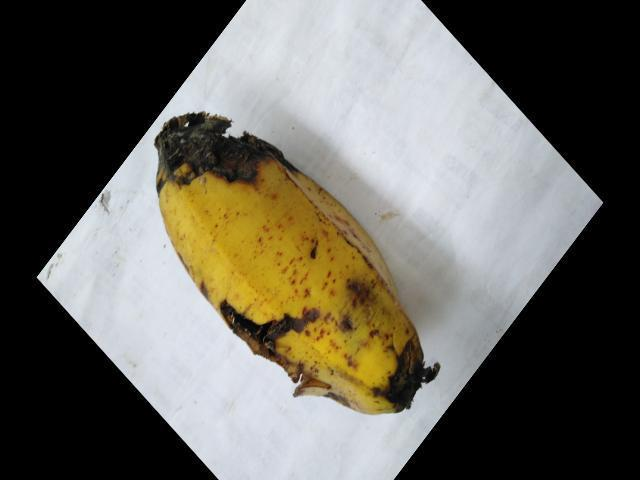rotten: (179, 273, 447, 432), (126, 99, 327, 211)
